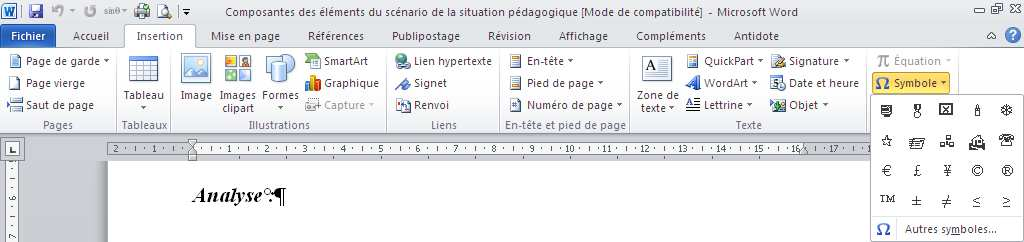texte: (192, 177, 286, 212), (769, 45, 849, 74), (0, 19, 61, 52), (872, 72, 959, 95), (249, 108, 309, 139), (705, 45, 763, 74), (637, 31, 779, 42), (770, 75, 859, 91), (107, 143, 231, 154), (129, 45, 162, 85), (266, 45, 297, 86), (305, 75, 379, 91), (74, 19, 108, 52), (720, 0, 766, 24), (685, 75, 757, 90), (528, 101, 622, 111), (270, 49, 288, 100), (181, 53, 211, 83), (958, 134, 1014, 150), (407, 145, 534, 152), (428, 108, 456, 139), (439, 53, 491, 69), (944, 165, 1013, 176), (634, 7, 702, 18), (512, 7, 576, 18), (226, 8, 294, 18), (212, 32, 279, 42), (393, 32, 459, 42), (528, 54, 573, 68), (183, 53, 209, 77), (1, 134, 24, 161), (386, 45, 408, 73), (395, 78, 446, 90), (705, 98, 752, 111), (392, 89, 412, 119), (3, 88, 22, 119), (769, 88, 788, 119), (755, 130, 775, 159), (10, 54, 50, 68), (881, 104, 921, 118), (320, 7, 381, 16), (987, 27, 1021, 43), (895, 55, 940, 67), (820, 143, 871, 153), (506, 88, 522, 119), (309, 31, 363, 40), (559, 32, 607, 42), (686, 88, 700, 119), (588, 98, 618, 112), (85, 7, 126, 17), (880, 195, 921, 205), (5, 175, 16, 210), (643, 56, 670, 70), (898, 135, 925, 149), (684, 45, 697, 74), (330, 145, 383, 152), (386, 7, 427, 16), (489, 31, 530, 40), (634, 145, 686, 152), (137, 32, 182, 40), (122, 121, 167, 129), (942, 225, 987, 233), (460, 8, 504, 16), (220, 91, 255, 101), (325, 57, 368, 65), (573, 88, 584, 119), (1, 3, 22, 19), (974, 3, 1003, 14), (506, 120, 541, 129), (225, 69, 251, 81), (124, 91, 163, 99), (223, 104, 254, 114), (582, 8, 612, 18), (181, 91, 211, 101), (192, 19, 201, 52), (71, 57, 99, 67), (263, 91, 298, 99), (44, 121, 72, 131), (641, 104, 674, 112), (879, 45, 888, 74), (792, 101, 818, 111), (574, 145, 611, 152), (385, 49, 390, 100), (417, 101, 448, 109), (906, 225, 937, 233), (370, 0, 380, 24), (54, 81, 84, 89), (601, 123, 630, 131), (27, 79, 50, 89), (568, 45, 576, 73), (157, 5, 172, 19), (559, 121, 580, 131), (637, 91, 662, 99), (736, 121, 761, 129), (29, 4, 43, 18), (569, 81, 593, 89), (774, 8, 797, 16), (70, 103, 93, 111), (27, 101, 47, 109), (178, 5, 190, 18), (877, 223, 890, 235), (510, 54, 521, 68), (415, 57, 434, 65), (528, 79, 547, 87), (225, 55, 237, 67), (1001, 104, 1012, 116), (299, 8, 315, 16), (751, 88, 755, 119), (709, 145, 726, 152), (942, 195, 951, 208), (52, 6, 63, 16), (1010, 4, 1021, 13), (882, 165, 891, 176), (585, 121, 597, 129), (630, 88, 633, 119), (21, 0, 25, 23), (432, 8, 443, 16), (618, 8, 629, 16), (55, 57, 66, 65), (553, 79, 564, 87), (667, 91, 678, 99), (9, 76, 15, 90), (914, 165, 921, 176), (54, 101, 63, 109), (546, 121, 555, 129), (975, 104, 980, 116), (448, 8, 454, 16), (106, 59, 109, 62), (71, 9, 74, 11), (826, 103, 828, 106), (708, 13, 712, 14)
